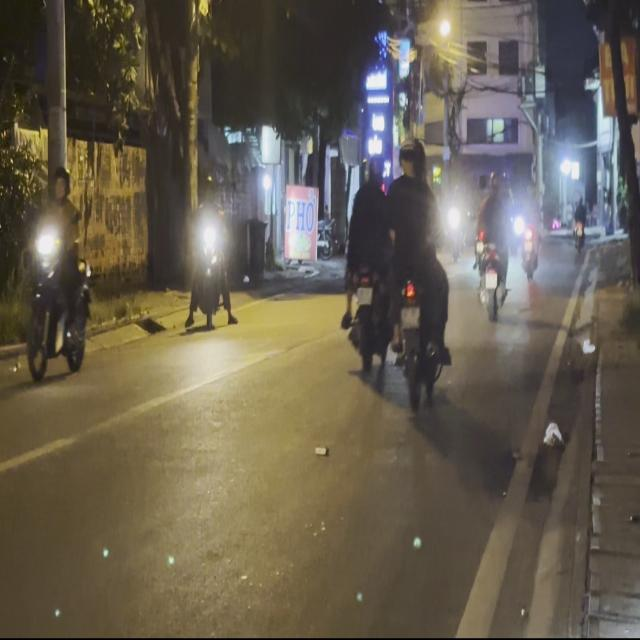helmet: (364, 150, 384, 184), (52, 164, 69, 199)
licenseplate: (384, 132, 453, 411), (23, 162, 92, 384), (339, 145, 393, 381)
motorcyclist: (397, 138, 427, 181)
nohelmet: (401, 306, 419, 326), (356, 286, 372, 304)
